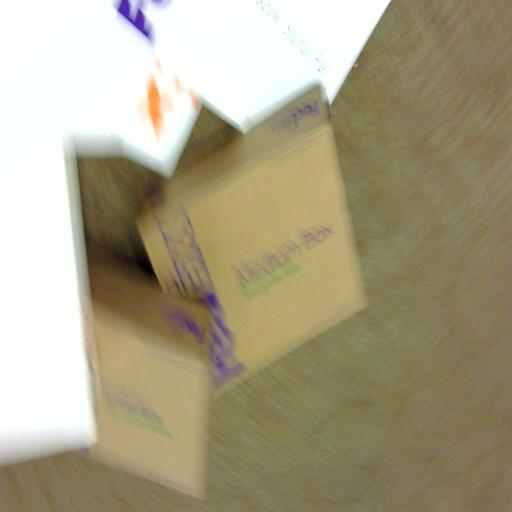Amazon: (151, 102, 372, 372)
